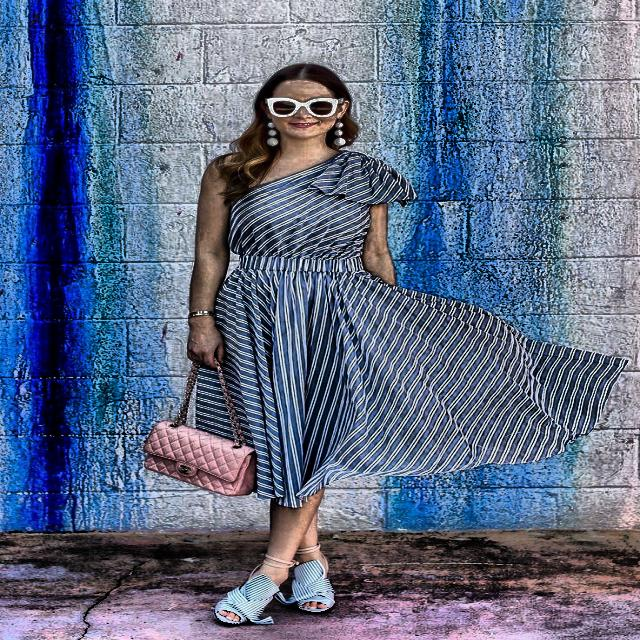Corporate_Gown: (184, 155, 413, 640)
